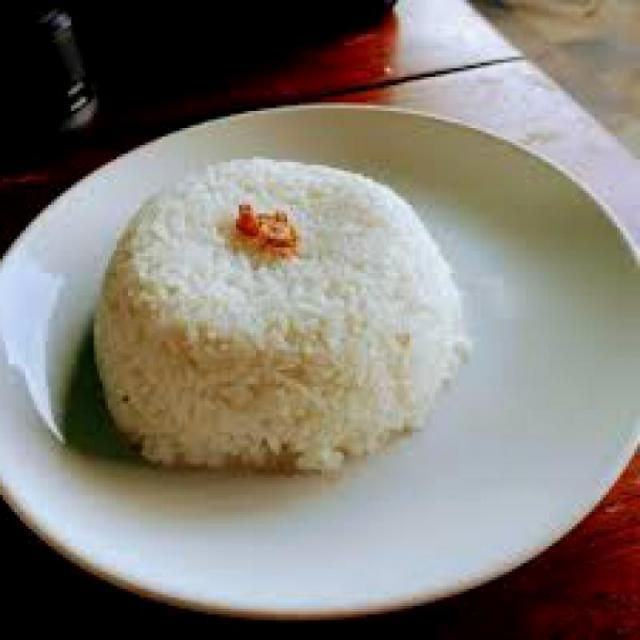Chicken -Chicken Inasal-: (95, 159, 464, 469)
